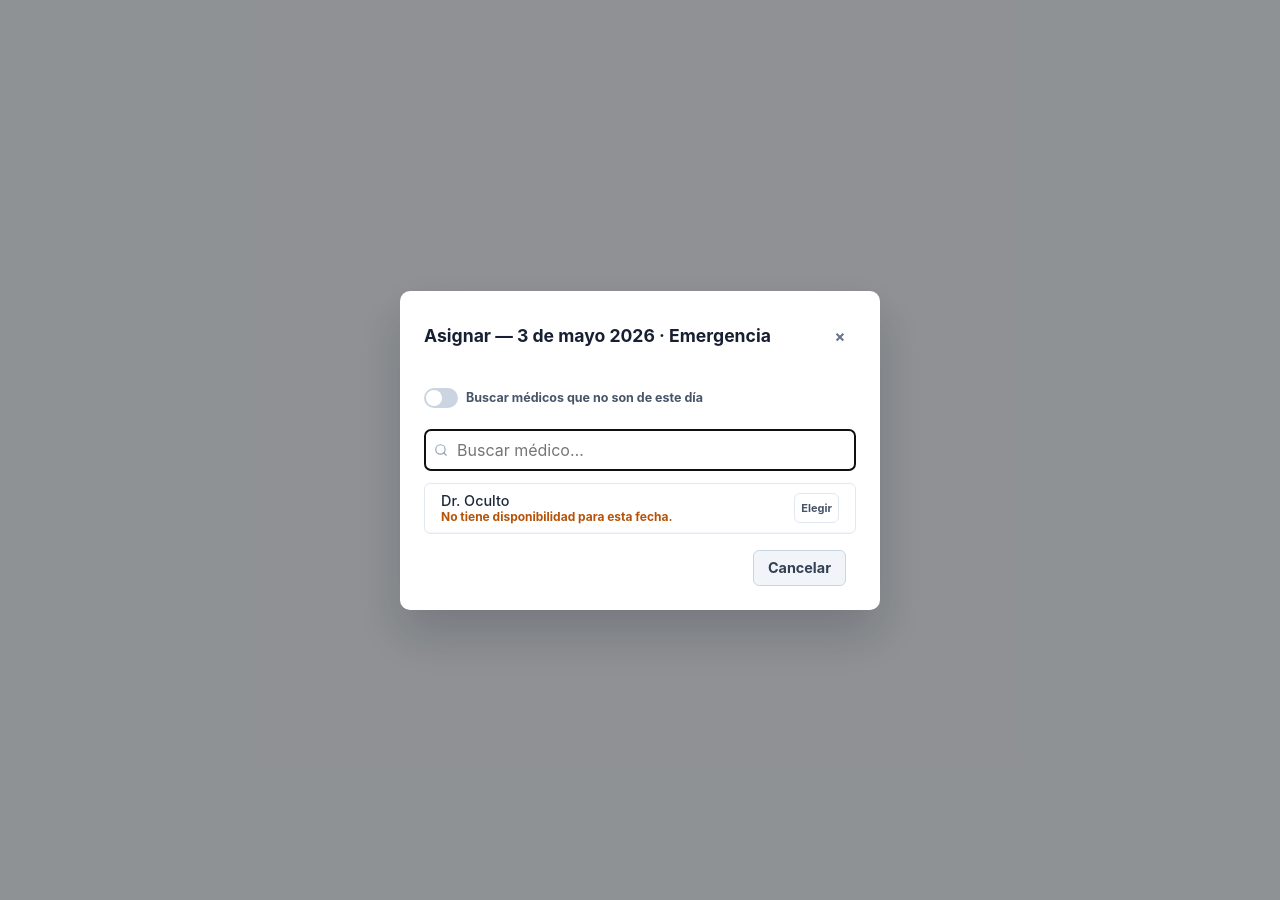
Test: AssignDoctorModal › lista con motivo clicable: al elegirlo se evalúa y salen advertencias
Expected: the text "Dr. Oculto" is shown, x1=441 y1=492 x2=509 y2=508
Expected: the text "No tiene disponibilidad para esta fecha." is shown, x1=441 y1=508 x2=672 y2=524
Step 1. Click the button "Dr. Oculto No tiene disponibilidad para esta fecha. Elegir" → click(640, 508), box x1=425 y1=484 x2=855 y2=532
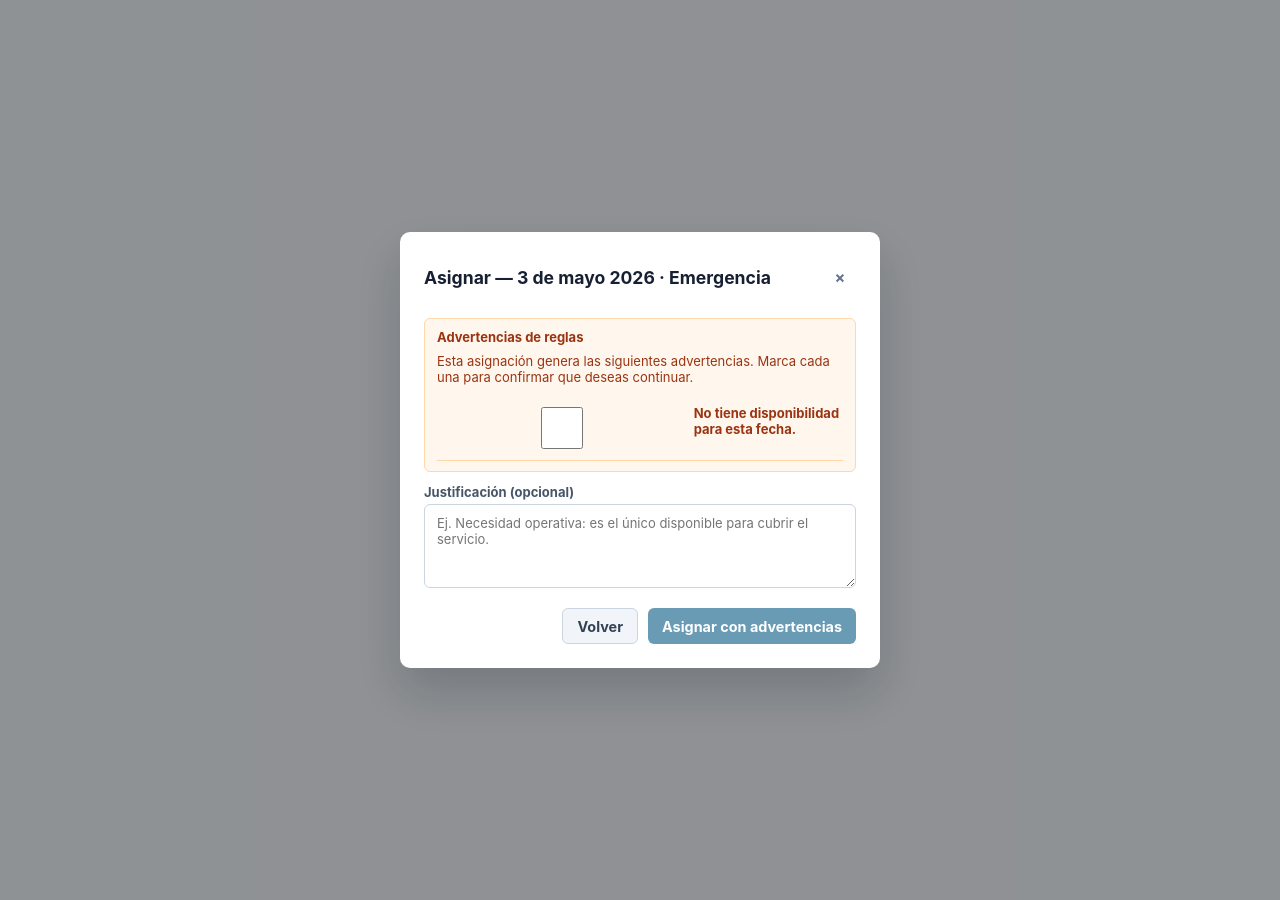
Result: the text "Advertencias de reglas" is shown at x1=437 y1=329 x2=584 y2=345
